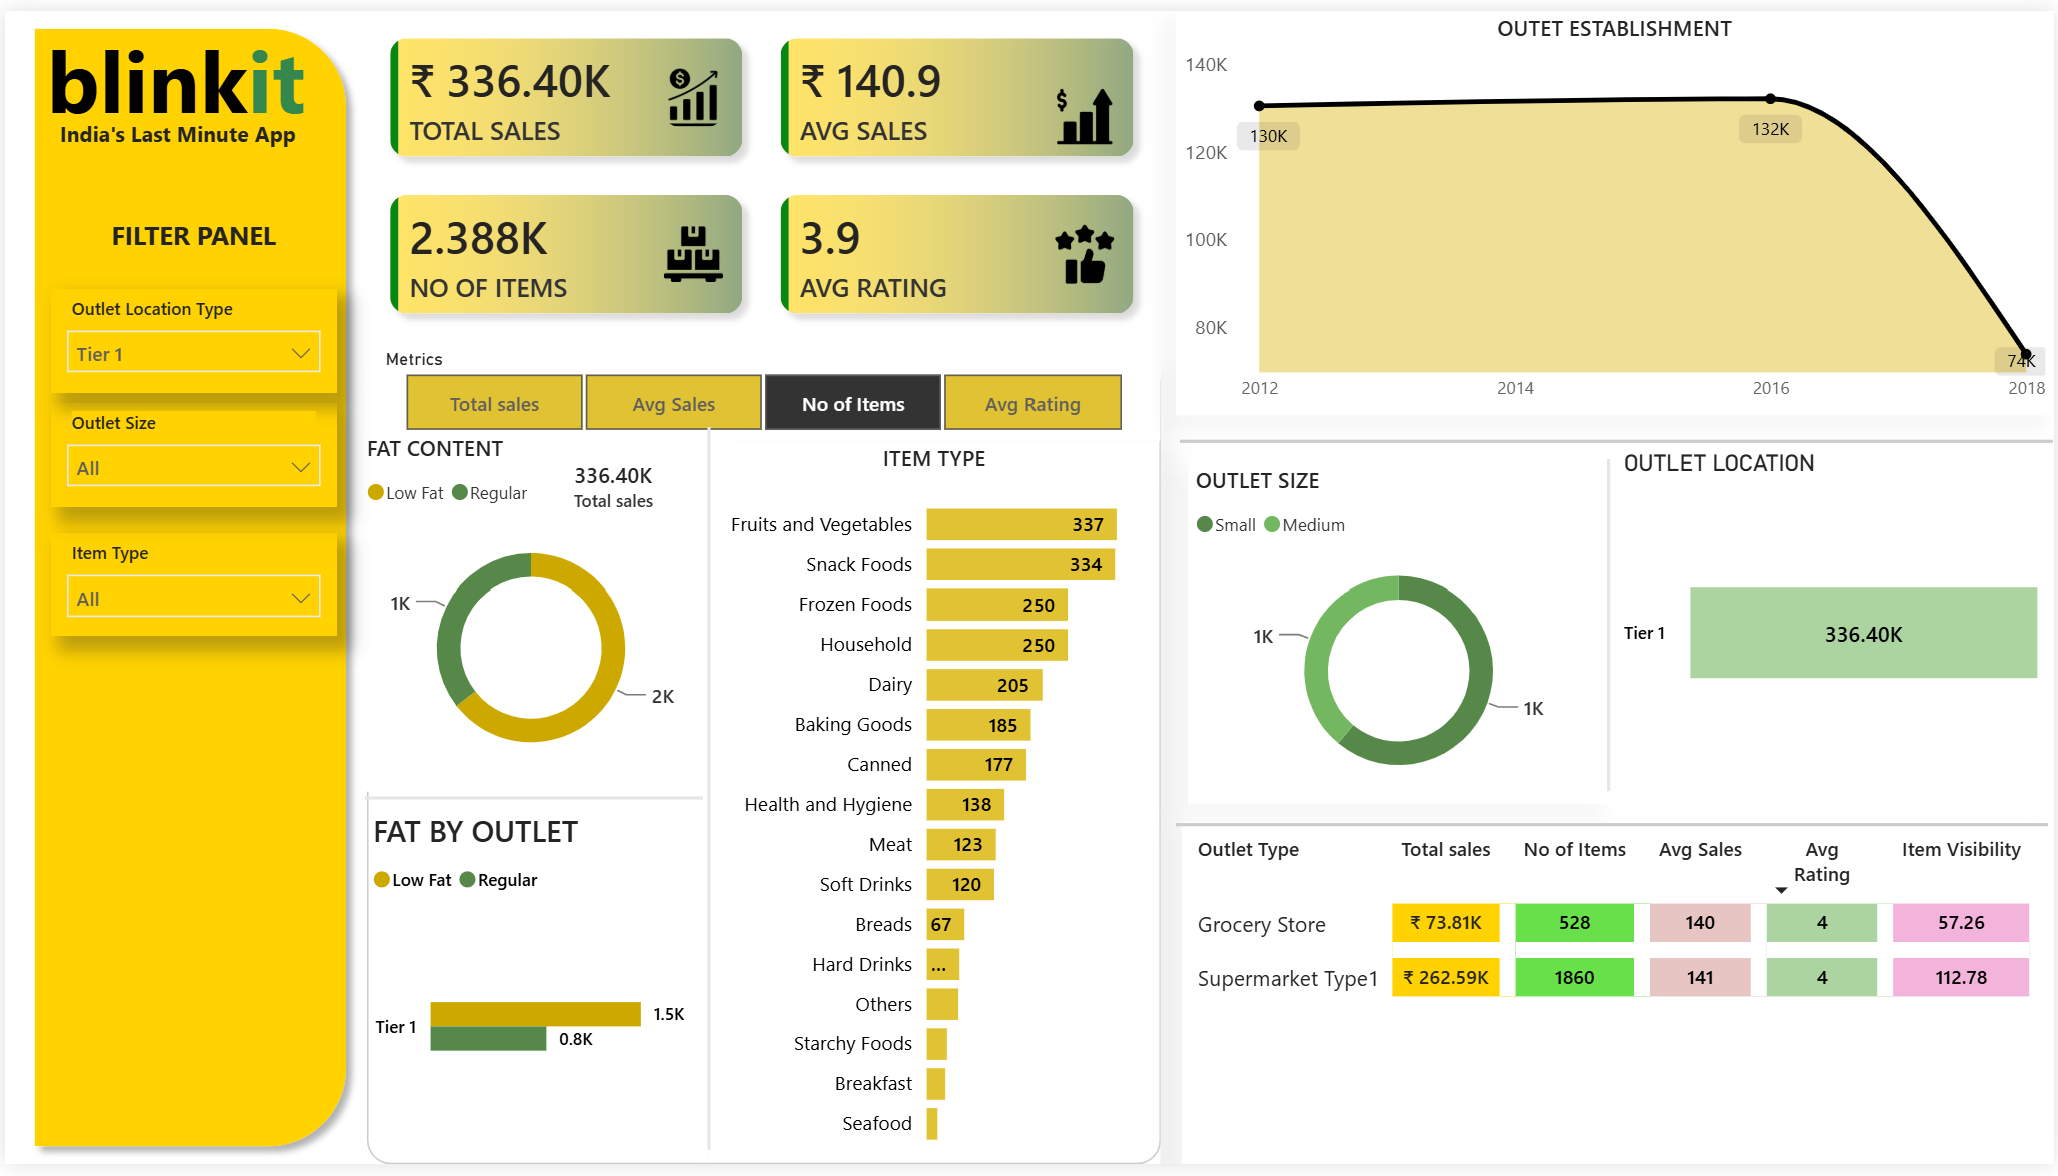

What the dashboard file says about the page in this screenshot:
{"tool":"powerbi","page":{"name":"Page 1","canvas":[1280,720],"ordinal":0},"visuals":[{"type":"shape","title":"blinkit","box":[8.9,0,216.7,720],"z":0},{"type":"textbox","box":[280,650,233.8,71.2],"z":1000},{"type":"textbox","box":[7.5,1.2,198.8,90],"z":2000},{"type":"textbox","box":[27.5,62.5,161.2,28.8],"z":3000},{"type":"cardVisual","fields":{"Data":["BlinkIT Grocery Data.Total sales","BlinkIT Grocery Data.Avg Sales","BlinkIT Grocery Data.No of Items","BlinkIT Grocery Data.Avg Rating"]},"box":[223.3,0,498.3,206.7],"z":4000},{"type":"shape","box":[225.7,218.6,495.7,501.4],"z":5000},{"type":"donutChart","title":"FAT CONTENT","fields":{"Y":["BlinkIT Grocery Data.Total sales"],"Category":["BlinkIT Grocery Data.Item Fat Content"]},"box":[221.7,263.3,215,223.3],"z":6000},{"type":"slicer","fields":{"Values":["Metrics.Metrics"]},"box":[225,206.2,496.2,62.5],"z":7000},{"type":"cardVisual","fields":{"Data":["BlinkIT Grocery Data.Total sales"]},"box":[321.7,263.3,118.3,65],"z":8000},{"type":"clusteredBarChart","title":"FAT BY OUTLET","fields":{"Y":["BlinkIT Grocery Data.Total sales"],"Category":["BlinkIT Grocery Data.Outlet Location Type"],"Series":["BlinkIT Grocery Data.Item Fat Content"]},"box":[225,498.3,216.7,213.3],"z":9000},{"type":"shape","box":[225,475,211.2,32.5],"z":10000},{"type":"shape","box":[427.5,260,25,451.2],"z":11000},{"type":"barChart","title":"ITEM TYPE","fields":{"Y":["BlinkIT Grocery Data.Total sales"],"Category":["BlinkIT Grocery Data.Item Type"]},"box":[440,270,281.4,450],"z":12000},{"type":"lineChart","title":"OUTET ESTABLISHMENT","fields":{"Y":["BlinkIT Grocery Data.Total sales"],"Category":["BlinkIT Grocery Data.Outlet Establishment Year"]},"box":[731.4,2.3,548.3,251.7],"z":13000},{"type":"shape","box":[734.3,262.9,545.7,12.9],"z":14000},{"type":"donutChart","title":"OUTLET SIZE","fields":{"Y":["BlinkIT Grocery Data.Total sales"],"Category":["BlinkIT Grocery Data.Outlet Size"]},"box":[738.3,283.3,263.3,211.7],"z":15000},{"type":"shape","box":[994.3,280,15.7,207.1],"z":16000},{"type":"funnel","title":"OUTLET LOCATION","fields":{"Y":["Sum(BlinkIT Grocery Data.Sales)"],"Category":["BlinkIT Grocery Data.Outlet Location Type"]},"box":[1006.7,273.3,273.3,211.7],"z":17000},{"type":"pivotTable","fields":{"Values":["BlinkIT Grocery Data.Total sales","BlinkIT Grocery Data.No of Items","BlinkIT Grocery Data.Avg Sales","BlinkIT Grocery Data.Avg Rating","Sum(BlinkIT Grocery Data.Item Visibility)"],"Rows":["BlinkIT Grocery Data.Outlet Type"]},"box":[735,506.7,545,213.3],"z":18000},{"type":"shape","box":[731.7,486.7,545,43.3],"z":19000},{"type":"slicer","fields":{"Values":["BlinkIT Grocery Data.Outlet Location Type"]},"box":[28.3,173.3,178.3,65],"z":20000},{"type":"slicer","fields":{"Values":["BlinkIT Grocery Data.Outlet Size"]},"box":[28.3,245,178.3,65],"z":21000},{"type":"slicer","fields":{"Values":["BlinkIT Grocery Data.Item Type"]},"box":[28.3,326.7,178.3,63.3],"z":22000},{"type":"shape","title":"FILTER PANEL","box":[28.3,128.3,178.3,30],"z":23000}]}

Visuals, with their boxes in screenshot pixels (x1, y1, x2, y2), scaled from the page's 1280x720 canvas onto the 2058x1176 screenshot:
"blinkit" shape: pyautogui.locateOnScreen(14, 0, 363, 1175)
textbox: pyautogui.locateOnScreen(450, 1062, 826, 1175)
textbox: pyautogui.locateOnScreen(12, 2, 332, 149)
textbox: pyautogui.locateOnScreen(44, 102, 303, 149)
cardVisual - BlinkIT Grocery Data.Total sales x BlinkIT Grocery Data.Avg Sales: pyautogui.locateOnScreen(359, 0, 1160, 338)
shape: pyautogui.locateOnScreen(363, 357, 1160, 1175)
"FAT CONTENT" donutChart: pyautogui.locateOnScreen(356, 430, 702, 795)
slicer - Metrics.Metrics: pyautogui.locateOnScreen(362, 337, 1160, 439)
cardVisual - BlinkIT Grocery Data.Total sales: pyautogui.locateOnScreen(517, 430, 707, 536)
"FAT BY OUTLET" clusteredBarChart: pyautogui.locateOnScreen(362, 814, 710, 1162)
shape: pyautogui.locateOnScreen(362, 776, 701, 829)
shape: pyautogui.locateOnScreen(687, 425, 728, 1162)
"ITEM TYPE" barChart: pyautogui.locateOnScreen(707, 441, 1160, 1175)
"OUTET ESTABLISHMENT" lineChart: pyautogui.locateOnScreen(1176, 4, 2057, 415)
shape: pyautogui.locateOnScreen(1181, 429, 2057, 450)
"OUTLET SIZE" donutChart: pyautogui.locateOnScreen(1187, 463, 1610, 808)
shape: pyautogui.locateOnScreen(1599, 457, 1624, 796)
"OUTLET LOCATION" funnel: pyautogui.locateOnScreen(1619, 446, 2057, 792)
pivotTable - BlinkIT Grocery Data.Total sales x BlinkIT Grocery Data.No of Items: pyautogui.locateOnScreen(1182, 828, 2057, 1175)
shape: pyautogui.locateOnScreen(1176, 795, 2053, 866)
slicer - BlinkIT Grocery Data.Outlet Location Type: pyautogui.locateOnScreen(46, 283, 332, 389)
slicer - BlinkIT Grocery Data.Outlet Size: pyautogui.locateOnScreen(46, 400, 332, 506)
slicer - BlinkIT Grocery Data.Item Type: pyautogui.locateOnScreen(46, 534, 332, 637)
"FILTER PANEL" shape: pyautogui.locateOnScreen(46, 210, 332, 259)
